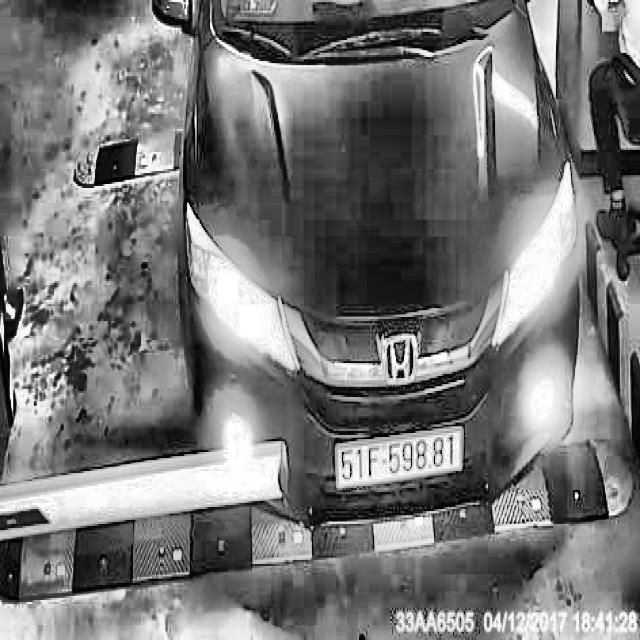plate: (330, 421, 468, 494)
